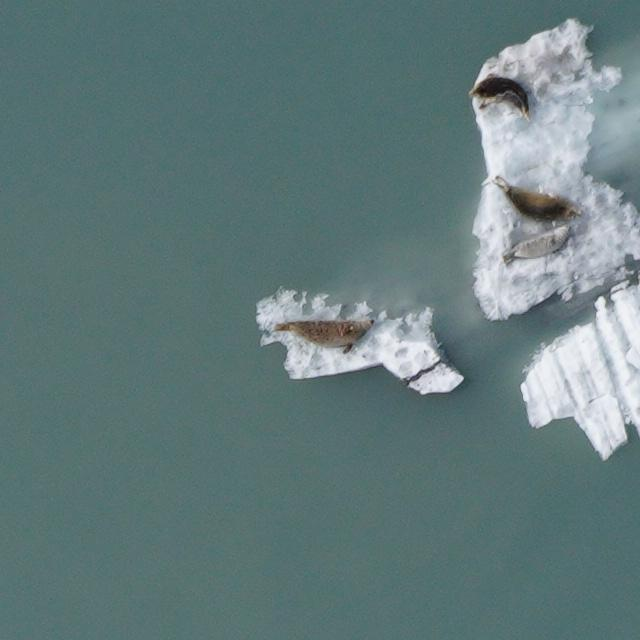seal: (484, 174, 582, 233), (273, 317, 375, 356), (498, 223, 581, 270), (468, 76, 533, 123)
